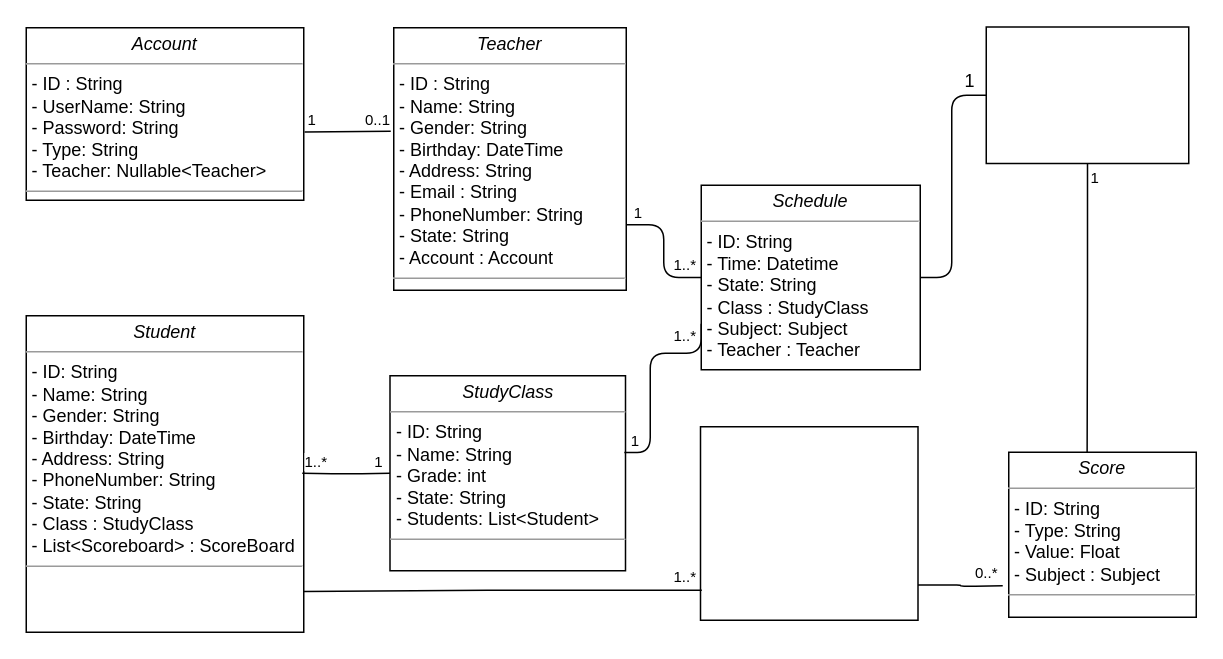
The diagram is 1223 pixels wide and 659 high, and some of its shapes have lost their labels. The shapes that lost their labels are listed below. From the top down, each one's centre as x and y in pixels, then its label:
pixel 1087 95: Subject - ID: String - Name: String
pixel 808 522: ScoreBoard - ID: String - Semester: String - Year: String - Scores : List<Score>
